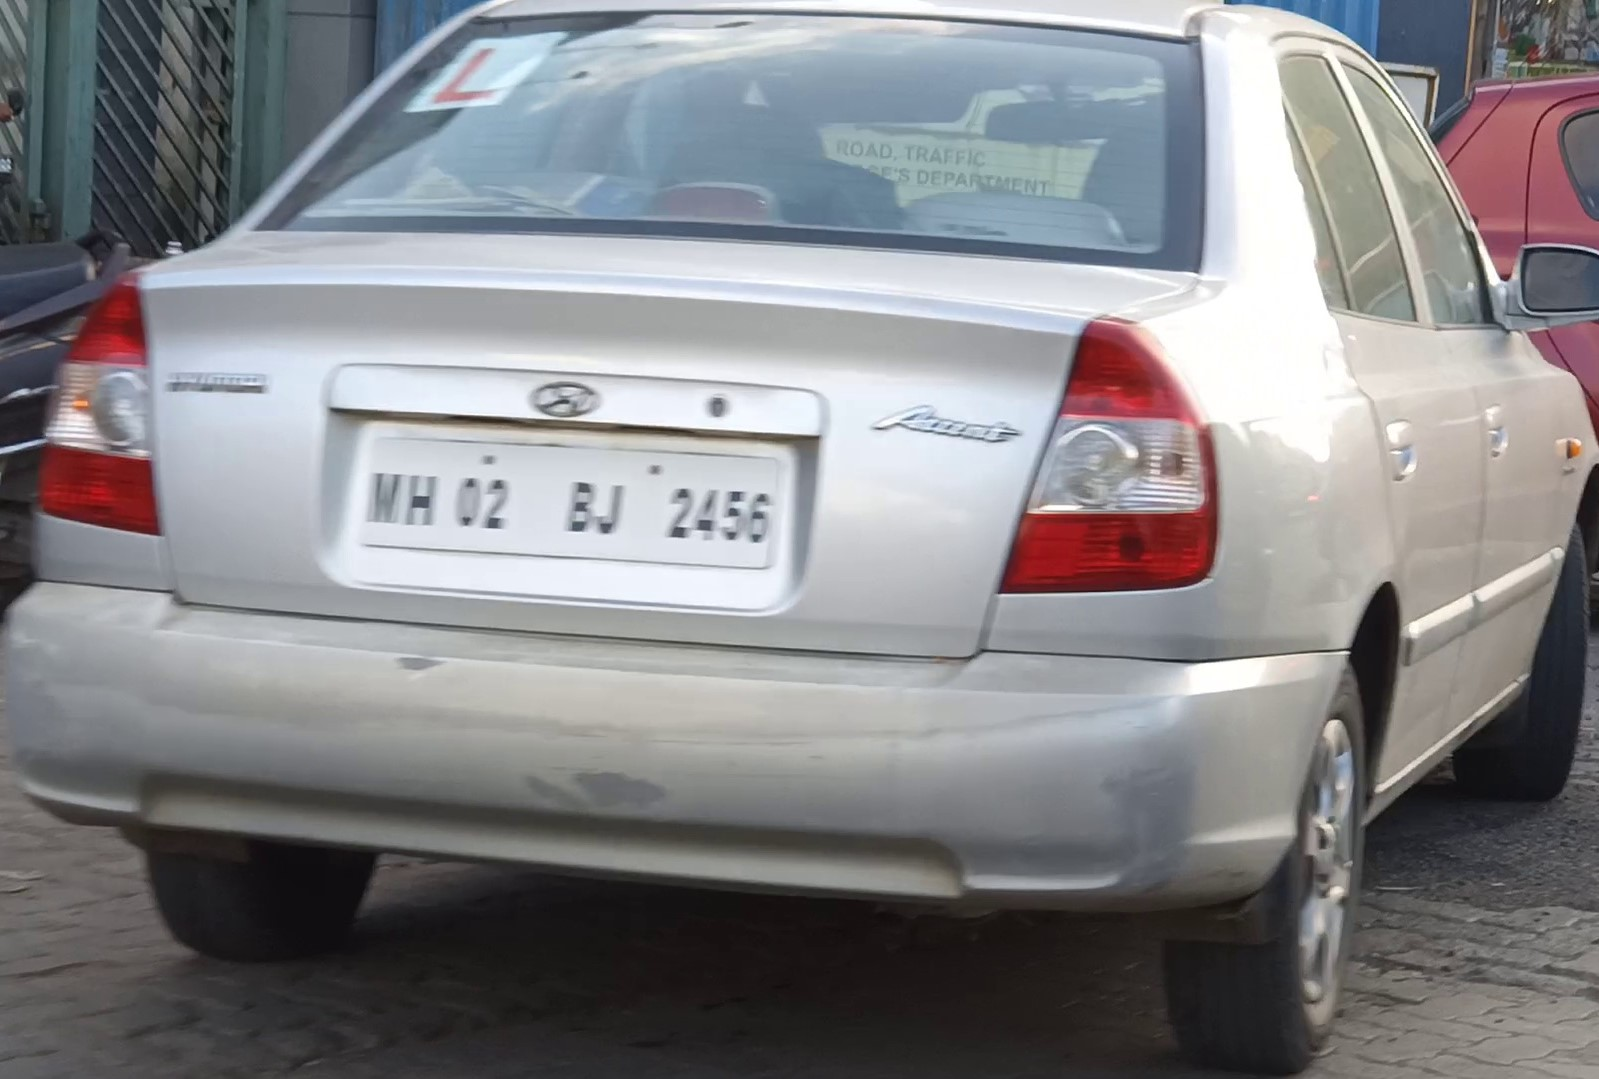MH02BJ2456: (361, 432, 786, 568)
